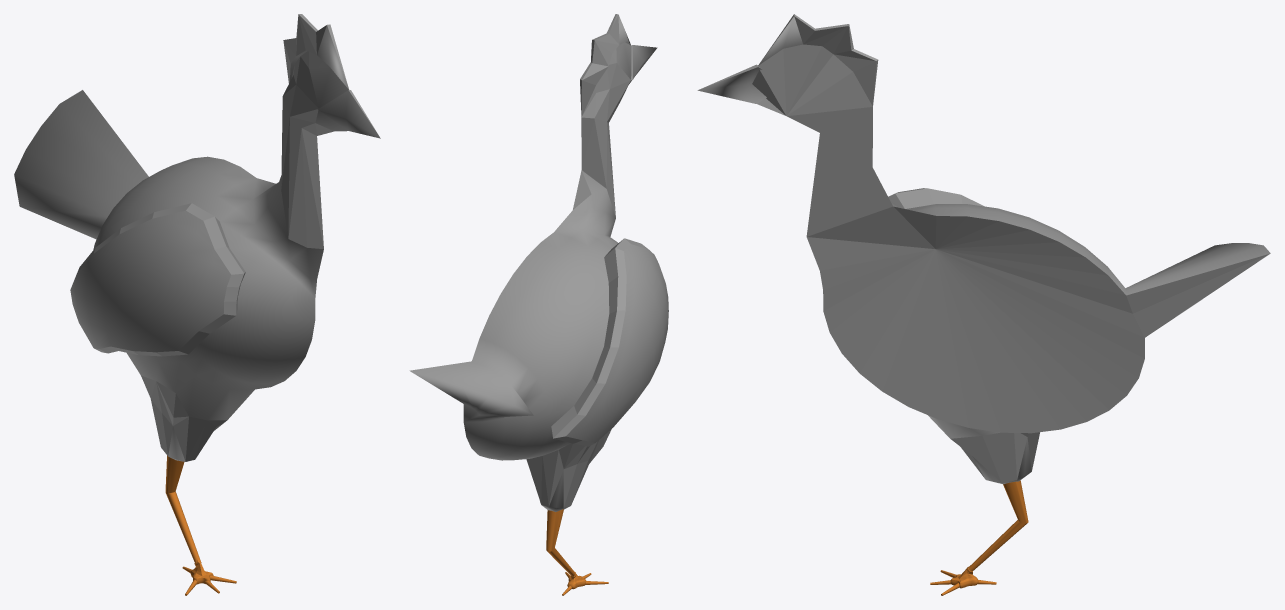
Rendered from gallina-mitad.fbx.
3 renders of one model, left to right at view 1: azimuth 30°, elevation 25°; view 2: azimuth 150°, elevation 25°; view 3: azimuth 270°, elevation 25°, orthographic. The views are drawn at different scales.
Visible parts, largest first — view 1: Sphere012, cresta, Line116, pico; view 2: Sphere012, cresta, Line116, pico; view 3: Sphere012, cresta, Line116, pico.
Part boxes in pixels (x1,y1,x2,y2): Sphere012: (14,51,348,461); cresta: (283,14,349,89); Line116: (165,455,236,595); pico: (318,90,380,138); Sphere012: (409,42,668,511); cresta: (580,14,630,117); Line116: (546,509,608,595); pico: (631,45,657,79); Sphere012: (752,44,1270,484); cresta: (758,14,878,106); Line116: (930,480,1028,595); pico: (697,64,766,103).
Size of the model in its own units: 49.16 by 220 by 194.
